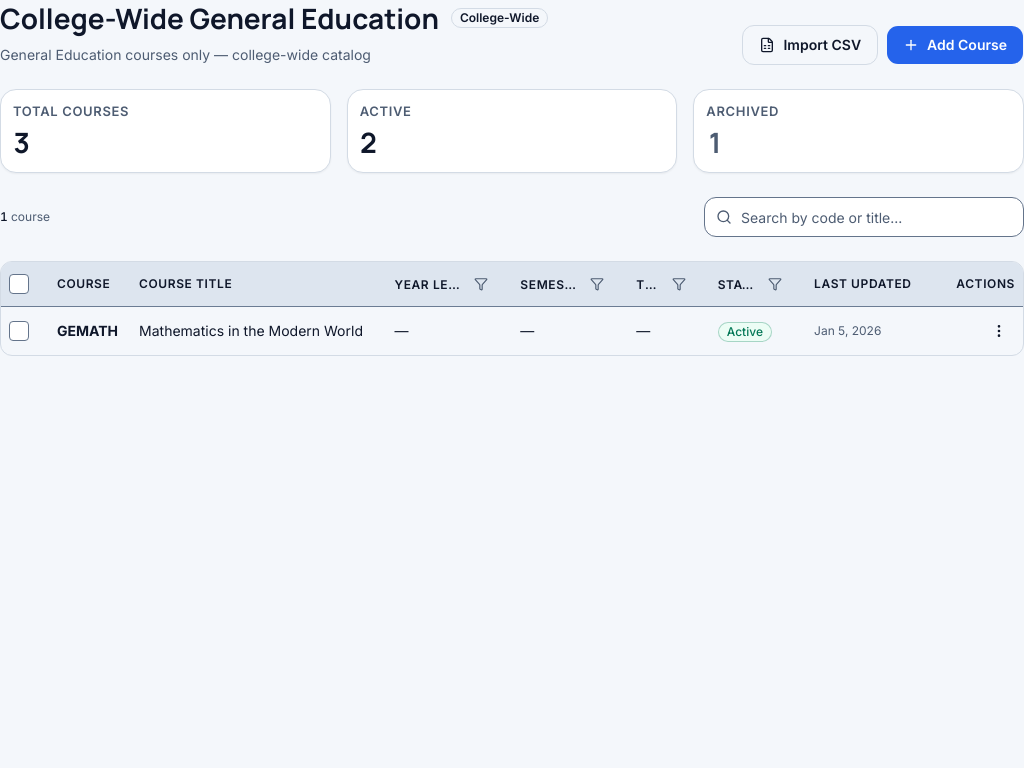
Scenario: GenEdCoursesCatalog › offers fixed-scope CRUD and page-bound bulk actions
Click the checkbox named "Select GEMATH" at (19, 331), box [9,321,29,341]
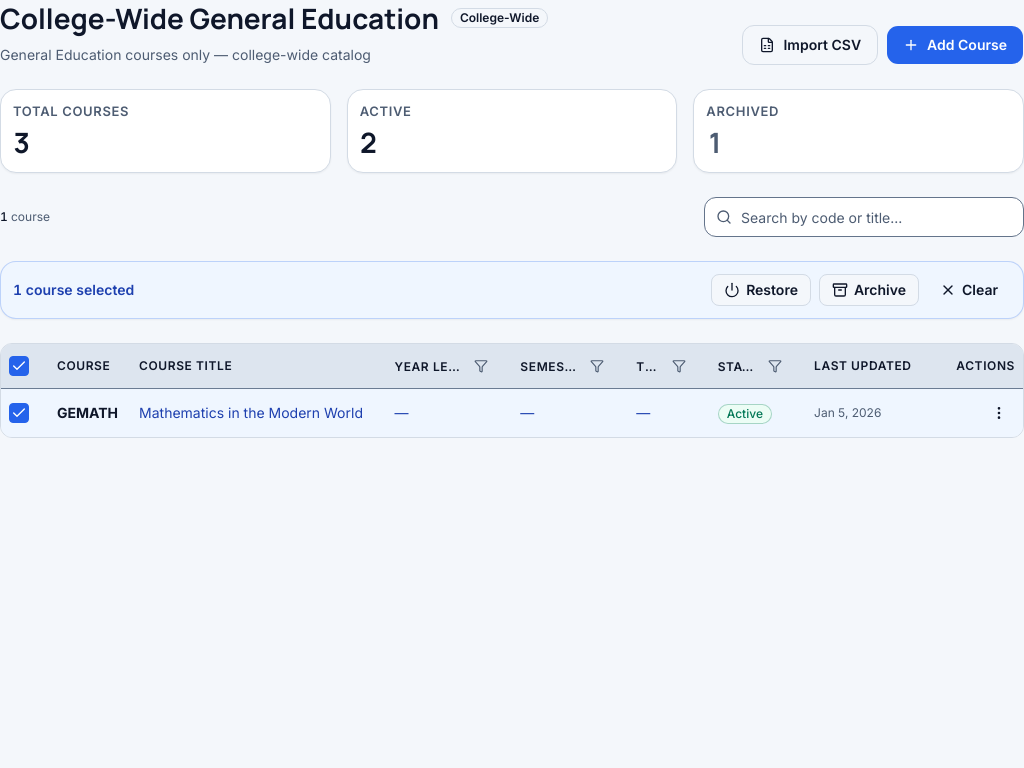
Result: the text "1 course selected" is shown at [13,280,134,300]
Result: the button "Archive" is shown at [819,274,919,306]
Result: the button "Restore" is shown at [711,274,811,306]
Click the button named "Actions for GEMATH" at (999, 413), box [983,397,1015,429]
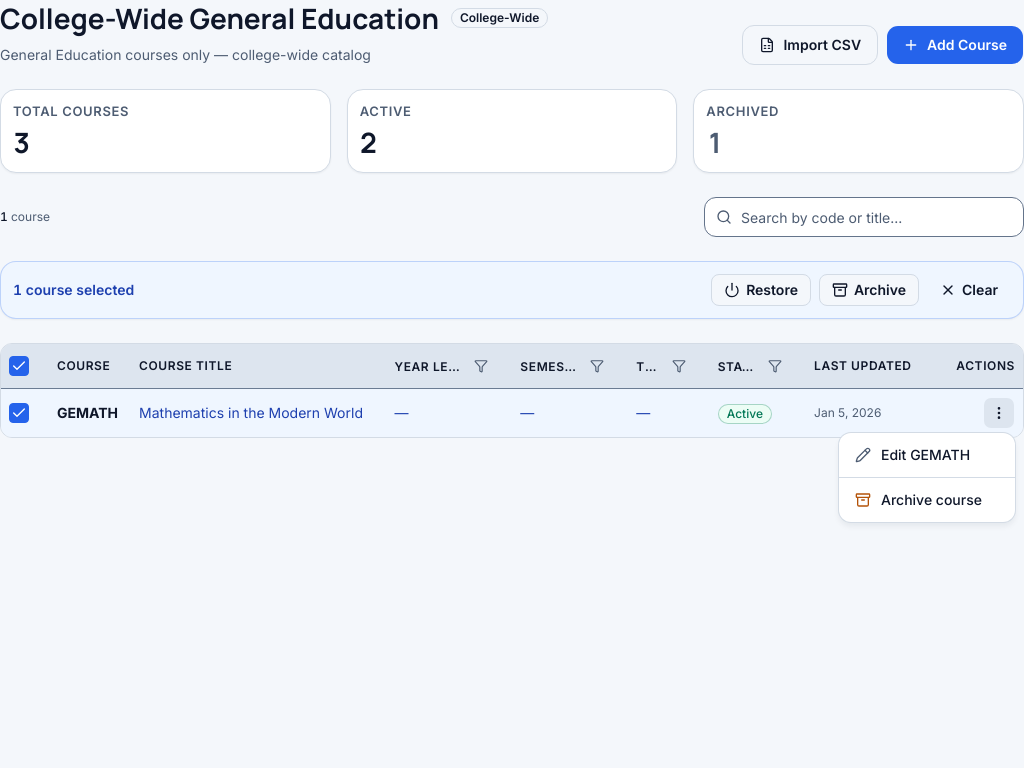
Click the menu item "Edit GEMATH" at (913, 454), box [855,446,970,463]
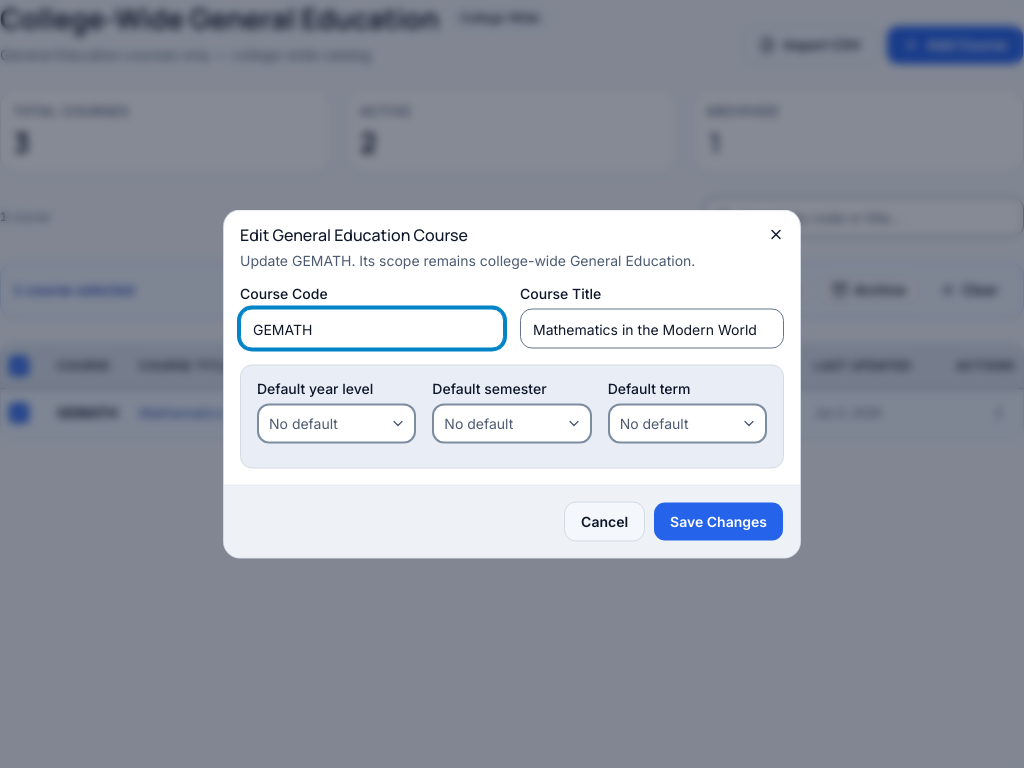
Result: the heading "Edit General Education Course" is shown at [240,224,468,246]
